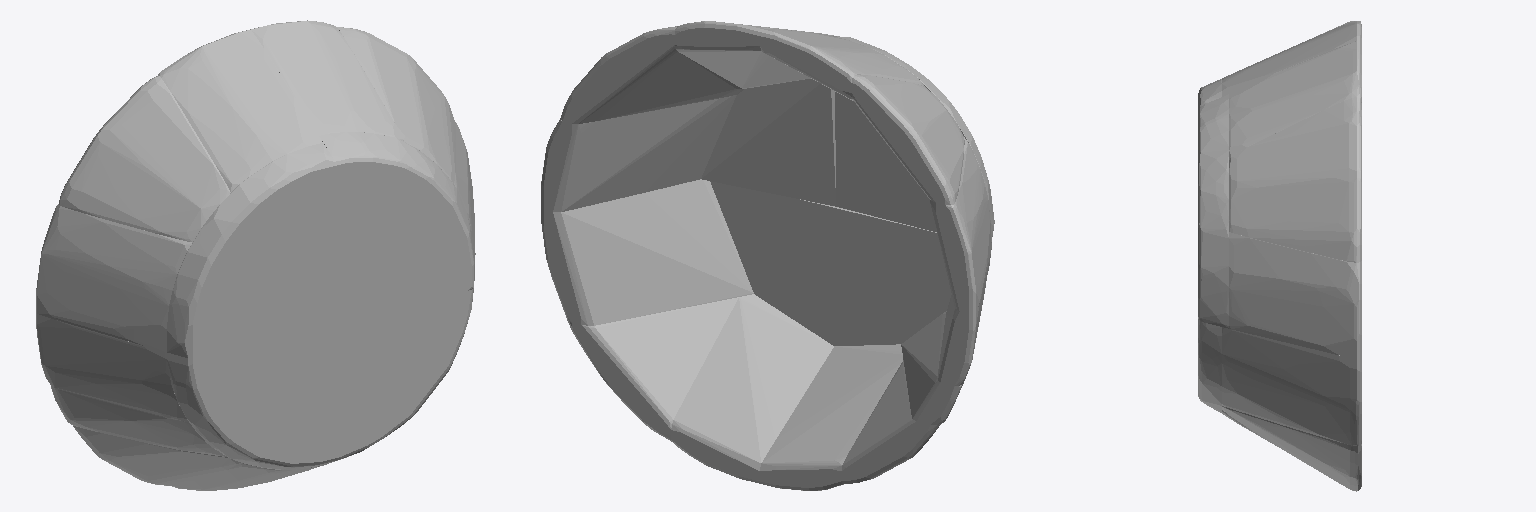
The robot description file, URDF, robot "root":
<robot name="root">
  <link name="link_coacd_convex_piece_0">
    <inertial>
      <origin xyz="0 0 0" rpy="0 0 0"/>
      <inertia ixx="4.38E-03" ixy="3.31E-04" ixz="-2.04E-04" iyy="4.88E-03" iyz="2.26E-03" izz="5.08E-03"/>
    </inertial>
    <visual>
      <origin xyz="0 0 0" rpy="0 0 0"/>
      <geometry>
        <mesh filename="coacd_convex_piece_0.obj" scale="1.0000E+00 1.0000E+00 1.0000E+00"/>
      </geometry>
      <material name="">
        <color rgba="7.50E-01 7.50E-01 7.50E-01 1"/>
      </material>
    </visual>
    <collision>
      <origin xyz="0 0 0" rpy="0 0 0"/>
      <geometry>
        <mesh filename="coacd_convex_piece_0.obj" scale="1.0000E+00 1.0000E+00 1.0000E+00"/>
      </geometry>
    </collision>
  </link>
  <link name="link_coacd_convex_piece_1">
    <inertial>
      <origin xyz="0 0 0" rpy="0 0 0"/>
      <inertia ixx="4.42E-03" ixy="-4.03E-03" ixz="8.38E-04" iyy="4.64E-03" iyz="9.04E-04" izz="8.30E-03"/>
    </inertial>
    <visual>
      <origin xyz="0 0 0" rpy="0 0 0"/>
      <geometry>
        <mesh filename="coacd_convex_piece_1.obj" scale="1.0000E+00 1.0000E+00 1.0000E+00"/>
      </geometry>
      <material name="">
        <color rgba="7.50E-01 7.50E-01 7.50E-01 1"/>
      </material>
    </visual>
    <collision>
      <origin xyz="0 0 0" rpy="0 0 0"/>
      <geometry>
        <mesh filename="coacd_convex_piece_1.obj" scale="1.0000E+00 1.0000E+00 1.0000E+00"/>
      </geometry>
    </collision>
  </link>
  <joint name="link_coacd_convex_piece_1_joint" type="fixed">
    <origin xyz="0 0 0" rpy="0 0 0"/>
    <parent link="link_coacd_convex_piece_0"/>
    <child link="link_coacd_convex_piece_1"/>
  </joint>
  <link name="link_coacd_convex_piece_2">
    <inertial>
      <origin xyz="0 0 0" rpy="0 0 0"/>
      <inertia ixx="3.61E-03" ixy="1.48E-03" ixz="1.51E-03" iyy="3.53E-03" iyz="-1.46E-03" izz="4.26E-03"/>
    </inertial>
    <visual>
      <origin xyz="0 0 0" rpy="0 0 0"/>
      <geometry>
        <mesh filename="coacd_convex_piece_2.obj" scale="1.0000E+00 1.0000E+00 1.0000E+00"/>
      </geometry>
      <material name="">
        <color rgba="7.50E-01 7.50E-01 7.50E-01 1"/>
      </material>
    </visual>
    <collision>
      <origin xyz="0 0 0" rpy="0 0 0"/>
      <geometry>
        <mesh filename="coacd_convex_piece_2.obj" scale="1.0000E+00 1.0000E+00 1.0000E+00"/>
      </geometry>
    </collision>
  </link>
  <joint name="link_coacd_convex_piece_2_joint" type="fixed">
    <origin xyz="0 0 0" rpy="0 0 0"/>
    <parent link="link_coacd_convex_piece_1"/>
    <child link="link_coacd_convex_piece_2"/>
  </joint>
  <link name="link_coacd_convex_piece_3">
    <inertial>
      <origin xyz="0 0 0" rpy="0 0 0"/>
      <inertia ixx="2.99E-03" ixy="-1.25E-03" ixz="-1.41E-03" iyy="3.37E-03" iyz="-1.23E-03" izz="3.78E-03"/>
    </inertial>
    <visual>
      <origin xyz="0 0 0" rpy="0 0 0"/>
      <geometry>
        <mesh filename="coacd_convex_piece_3.obj" scale="1.0000E+00 1.0000E+00 1.0000E+00"/>
      </geometry>
      <material name="">
        <color rgba="7.50E-01 7.50E-01 7.50E-01 1"/>
      </material>
    </visual>
    <collision>
      <origin xyz="0 0 0" rpy="0 0 0"/>
      <geometry>
        <mesh filename="coacd_convex_piece_3.obj" scale="1.0000E+00 1.0000E+00 1.0000E+00"/>
      </geometry>
    </collision>
  </link>
  <joint name="link_coacd_convex_piece_3_joint" type="fixed">
    <origin xyz="0 0 0" rpy="0 0 0"/>
    <parent link="link_coacd_convex_piece_2"/>
    <child link="link_coacd_convex_piece_3"/>
  </joint>
  <link name="link_coacd_convex_piece_4">
    <inertial>
      <origin xyz="0 0 0" rpy="0 0 0"/>
      <inertia ixx="1.41E-03" ixy="-2.63E-03" ixz="-7.01E-04" iyy="8.35E-03" iyz="-5.13E-05" izz="8.94E-03"/>
    </inertial>
    <visual>
      <origin xyz="0 0 0" rpy="0 0 0"/>
      <geometry>
        <mesh filename="coacd_convex_piece_4.obj" scale="1.0000E+00 1.0000E+00 1.0000E+00"/>
      </geometry>
      <material name="">
        <color rgba="7.50E-01 7.50E-01 7.50E-01 1"/>
      </material>
    </visual>
    <collision>
      <origin xyz="0 0 0" rpy="0 0 0"/>
      <geometry>
        <mesh filename="coacd_convex_piece_4.obj" scale="1.0000E+00 1.0000E+00 1.0000E+00"/>
      </geometry>
    </collision>
  </link>
  <joint name="link_coacd_convex_piece_4_joint" type="fixed">
    <origin xyz="0 0 0" rpy="0 0 0"/>
    <parent link="link_coacd_convex_piece_3"/>
    <child link="link_coacd_convex_piece_4"/>
  </joint>
  <link name="link_coacd_convex_piece_5">
    <inertial>
      <origin xyz="0 0 0" rpy="0 0 0"/>
      <inertia ixx="8.32E-03" ixy="1.99E-03" ixz="-7.78E-05" iyy="9.82E-04" iyz="7.38E-04" izz="8.64E-03"/>
    </inertial>
    <visual>
      <origin xyz="0 0 0" rpy="0 0 0"/>
      <geometry>
        <mesh filename="coacd_convex_piece_5.obj" scale="1.0000E+00 1.0000E+00 1.0000E+00"/>
      </geometry>
      <material name="">
        <color rgba="7.50E-01 7.50E-01 7.50E-01 1"/>
      </material>
    </visual>
    <collision>
      <origin xyz="0 0 0" rpy="0 0 0"/>
      <geometry>
        <mesh filename="coacd_convex_piece_5.obj" scale="1.0000E+00 1.0000E+00 1.0000E+00"/>
      </geometry>
    </collision>
  </link>
  <joint name="link_coacd_convex_piece_5_joint" type="fixed">
    <origin xyz="0 0 0" rpy="0 0 0"/>
    <parent link="link_coacd_convex_piece_4"/>
    <child link="link_coacd_convex_piece_5"/>
  </joint>
  <link name="link_coacd_convex_piece_6">
    <inertial>
      <origin xyz="0 0 0" rpy="0 0 0"/>
      <inertia ixx="9.45E-03" ixy="-2.78E-03" ixz="1.10E-04" iyy="1.58E-03" iyz="6.50E-04" izz="1.02E-02"/>
    </inertial>
    <visual>
      <origin xyz="0 0 0" rpy="0 0 0"/>
      <geometry>
        <mesh filename="coacd_convex_piece_6.obj" scale="1.0000E+00 1.0000E+00 1.0000E+00"/>
      </geometry>
      <material name="">
        <color rgba="7.50E-01 7.50E-01 7.50E-01 1"/>
      </material>
    </visual>
    <collision>
      <origin xyz="0 0 0" rpy="0 0 0"/>
      <geometry>
        <mesh filename="coacd_convex_piece_6.obj" scale="1.0000E+00 1.0000E+00 1.0000E+00"/>
      </geometry>
    </collision>
  </link>
  <joint name="link_coacd_convex_piece_6_joint" type="fixed">
    <origin xyz="0 0 0" rpy="0 0 0"/>
    <parent link="link_coacd_convex_piece_5"/>
    <child link="link_coacd_convex_piece_6"/>
  </joint>
  <link name="link_coacd_convex_piece_7">
    <inertial>
      <origin xyz="0 0 0" rpy="0 0 0"/>
      <inertia ixx="3.49E-03" ixy="-2.80E-03" ixz="-7.34E-04" iyy="2.94E-03" iyz="-7.72E-04" izz="5.80E-03"/>
    </inertial>
    <visual>
      <origin xyz="0 0 0" rpy="0 0 0"/>
      <geometry>
        <mesh filename="coacd_convex_piece_7.obj" scale="1.0000E+00 1.0000E+00 1.0000E+00"/>
      </geometry>
      <material name="">
        <color rgba="7.50E-01 7.50E-01 7.50E-01 1"/>
      </material>
    </visual>
    <collision>
      <origin xyz="0 0 0" rpy="0 0 0"/>
      <geometry>
        <mesh filename="coacd_convex_piece_7.obj" scale="1.0000E+00 1.0000E+00 1.0000E+00"/>
      </geometry>
    </collision>
  </link>
  <joint name="link_coacd_convex_piece_7_joint" type="fixed">
    <origin xyz="0 0 0" rpy="0 0 0"/>
    <parent link="link_coacd_convex_piece_6"/>
    <child link="link_coacd_convex_piece_7"/>
  </joint>
  <link name="link_coacd_convex_piece_8">
    <inertial>
      <origin xyz="0 0 0" rpy="0 0 0"/>
      <inertia ixx="6.28E-03" ixy="-1.49E-03" ixz="-1.00E-04" iyy="8.26E-04" iyz="-5.74E-04" izz="6.52E-03"/>
    </inertial>
    <visual>
      <origin xyz="0 0 0" rpy="0 0 0"/>
      <geometry>
        <mesh filename="coacd_convex_piece_8.obj" scale="1.0000E+00 1.0000E+00 1.0000E+00"/>
      </geometry>
      <material name="">
        <color rgba="7.50E-01 7.50E-01 7.50E-01 1"/>
      </material>
    </visual>
    <collision>
      <origin xyz="0 0 0" rpy="0 0 0"/>
      <geometry>
        <mesh filename="coacd_convex_piece_8.obj" scale="1.0000E+00 1.0000E+00 1.0000E+00"/>
      </geometry>
    </collision>
  </link>
  <joint name="link_coacd_convex_piece_8_joint" type="fixed">
    <origin xyz="0 0 0" rpy="0 0 0"/>
    <parent link="link_coacd_convex_piece_7"/>
    <child link="link_coacd_convex_piece_8"/>
  </joint>
  <link name="link_coacd_convex_piece_9">
    <inertial>
      <origin xyz="0 0 0" rpy="0 0 0"/>
      <inertia ixx="5.48E-03" ixy="1.44E-03" ixz="1.39E-04" iyy="7.32E-04" iyz="-5.29E-04" izz="5.69E-03"/>
    </inertial>
    <visual>
      <origin xyz="0 0 0" rpy="0 0 0"/>
      <geometry>
        <mesh filename="coacd_convex_piece_9.obj" scale="1.0000E+00 1.0000E+00 1.0000E+00"/>
      </geometry>
      <material name="">
        <color rgba="7.50E-01 7.50E-01 7.50E-01 1"/>
      </material>
    </visual>
    <collision>
      <origin xyz="0 0 0" rpy="0 0 0"/>
      <geometry>
        <mesh filename="coacd_convex_piece_9.obj" scale="1.0000E+00 1.0000E+00 1.0000E+00"/>
      </geometry>
    </collision>
  </link>
  <joint name="link_coacd_convex_piece_9_joint" type="fixed">
    <origin xyz="0 0 0" rpy="0 0 0"/>
    <parent link="link_coacd_convex_piece_8"/>
    <child link="link_coacd_convex_piece_9"/>
  </joint>
  <link name="link_coacd_convex_piece_10">
    <inertial>
      <origin xyz="0 0 0" rpy="0 0 0"/>
      <inertia ixx="3.14E-03" ixy="2.40E-03" ixz="6.18E-04" iyy="2.27E-03" iyz="-6.83E-04" izz="4.89E-03"/>
    </inertial>
    <visual>
      <origin xyz="0 0 0" rpy="0 0 0"/>
      <geometry>
        <mesh filename="coacd_convex_piece_10.obj" scale="1.0000E+00 1.0000E+00 1.0000E+00"/>
      </geometry>
      <material name="">
        <color rgba="7.50E-01 7.50E-01 7.50E-01 1"/>
      </material>
    </visual>
    <collision>
      <origin xyz="0 0 0" rpy="0 0 0"/>
      <geometry>
        <mesh filename="coacd_convex_piece_10.obj" scale="1.0000E+00 1.0000E+00 1.0000E+00"/>
      </geometry>
    </collision>
  </link>
  <joint name="link_coacd_convex_piece_10_joint" type="fixed">
    <origin xyz="0 0 0" rpy="0 0 0"/>
    <parent link="link_coacd_convex_piece_9"/>
    <child link="link_coacd_convex_piece_10"/>
  </joint>
  <link name="link_coacd_convex_piece_11">
    <inertial>
      <origin xyz="0 0 0" rpy="0 0 0"/>
      <inertia ixx="1.39E-03" ixy="1.93E-03" ixz="3.30E-04" iyy="3.09E-03" iyz="-9.55E-05" izz="4.13E-03"/>
    </inertial>
    <visual>
      <origin xyz="0 0 0" rpy="0 0 0"/>
      <geometry>
        <mesh filename="coacd_convex_piece_11.obj" scale="1.0000E+00 1.0000E+00 1.0000E+00"/>
      </geometry>
      <material name="">
        <color rgba="7.50E-01 7.50E-01 7.50E-01 1"/>
      </material>
    </visual>
    <collision>
      <origin xyz="0 0 0" rpy="0 0 0"/>
      <geometry>
        <mesh filename="coacd_convex_piece_11.obj" scale="1.0000E+00 1.0000E+00 1.0000E+00"/>
      </geometry>
    </collision>
  </link>
  <joint name="link_coacd_convex_piece_11_joint" type="fixed">
    <origin xyz="0 0 0" rpy="0 0 0"/>
    <parent link="link_coacd_convex_piece_10"/>
    <child link="link_coacd_convex_piece_11"/>
  </joint>
  <link name="link_coacd_convex_piece_12">
    <inertial>
      <origin xyz="0 0 0" rpy="0 0 0"/>
      <inertia ixx="4.95E-04" ixy="1.34E-03" ixz="4.81E-04" iyy="5.92E-03" iyz="-1.45E-05" izz="5.91E-03"/>
    </inertial>
    <visual>
      <origin xyz="0 0 0" rpy="0 0 0"/>
      <geometry>
        <mesh filename="coacd_convex_piece_12.obj" scale="1.0000E+00 1.0000E+00 1.0000E+00"/>
      </geometry>
      <material name="">
        <color rgba="7.50E-01 7.50E-01 7.50E-01 1"/>
      </material>
    </visual>
    <collision>
      <origin xyz="0 0 0" rpy="0 0 0"/>
      <geometry>
        <mesh filename="coacd_convex_piece_12.obj" scale="1.0000E+00 1.0000E+00 1.0000E+00"/>
      </geometry>
    </collision>
  </link>
  <joint name="link_coacd_convex_piece_12_joint" type="fixed">
    <origin xyz="0 0 0" rpy="0 0 0"/>
    <parent link="link_coacd_convex_piece_11"/>
    <child link="link_coacd_convex_piece_12"/>
  </joint>
  <link name="link_coacd_convex_piece_13">
    <inertial>
      <origin xyz="0 0 0" rpy="0 0 0"/>
      <inertia ixx="8.00E-04" ixy="1.95E-03" ixz="-6.68E-04" iyy="7.75E-03" iyz="2.21E-04" izz="7.91E-03"/>
    </inertial>
    <visual>
      <origin xyz="0 0 0" rpy="0 0 0"/>
      <geometry>
        <mesh filename="coacd_convex_piece_13.obj" scale="1.0000E+00 1.0000E+00 1.0000E+00"/>
      </geometry>
      <material name="">
        <color rgba="7.50E-01 7.50E-01 7.50E-01 1"/>
      </material>
    </visual>
    <collision>
      <origin xyz="0 0 0" rpy="0 0 0"/>
      <geometry>
        <mesh filename="coacd_convex_piece_13.obj" scale="1.0000E+00 1.0000E+00 1.0000E+00"/>
      </geometry>
    </collision>
  </link>
  <joint name="link_coacd_convex_piece_13_joint" type="fixed">
    <origin xyz="0 0 0" rpy="0 0 0"/>
    <parent link="link_coacd_convex_piece_12"/>
    <child link="link_coacd_convex_piece_13"/>
  </joint>
  <link name="link_coacd_convex_piece_14">
    <inertial>
      <origin xyz="0 0 0" rpy="0 0 0"/>
      <inertia ixx="5.39E-03" ixy="4.75E-03" ixz="-9.99E-04" iyy="5.30E-03" iyz="1.16E-03" izz="9.75E-03"/>
    </inertial>
    <visual>
      <origin xyz="0 0 0" rpy="0 0 0"/>
      <geometry>
        <mesh filename="coacd_convex_piece_14.obj" scale="1.0000E+00 1.0000E+00 1.0000E+00"/>
      </geometry>
      <material name="">
        <color rgba="7.50E-01 7.50E-01 7.50E-01 1"/>
      </material>
    </visual>
    <collision>
      <origin xyz="0 0 0" rpy="0 0 0"/>
      <geometry>
        <mesh filename="coacd_convex_piece_14.obj" scale="1.0000E+00 1.0000E+00 1.0000E+00"/>
      </geometry>
    </collision>
  </link>
  <joint name="link_coacd_convex_piece_14_joint" type="fixed">
    <origin xyz="0 0 0" rpy="0 0 0"/>
    <parent link="link_coacd_convex_piece_13"/>
    <child link="link_coacd_convex_piece_14"/>
  </joint>
  <link name="link_coacd_convex_piece_15">
    <inertial>
      <origin xyz="0 0 0" rpy="0 0 0"/>
      <inertia ixx="1.25E-03" ixy="-2.64E-03" ixz="6.62E-04" iyy="9.95E-03" iyz="2.27E-04" izz="1.03E-02"/>
    </inertial>
    <visual>
      <origin xyz="0 0 0" rpy="0 0 0"/>
      <geometry>
        <mesh filename="coacd_convex_piece_15.obj" scale="1.0000E+00 1.0000E+00 1.0000E+00"/>
      </geometry>
      <material name="">
        <color rgba="7.50E-01 7.50E-01 7.50E-01 1"/>
      </material>
    </visual>
    <collision>
      <origin xyz="0 0 0" rpy="0 0 0"/>
      <geometry>
        <mesh filename="coacd_convex_piece_15.obj" scale="1.0000E+00 1.0000E+00 1.0000E+00"/>
      </geometry>
    </collision>
  </link>
  <joint name="link_coacd_convex_piece_15_joint" type="fixed">
    <origin xyz="0 0 0" rpy="0 0 0"/>
    <parent link="link_coacd_convex_piece_14"/>
    <child link="link_coacd_convex_piece_15"/>
  </joint>
</robot>

--- Render facts (derived) ---
The picture shows the robot from 3 angles, left to right: view 1: azimuth 30°, elevation 25°; view 2: azimuth 150°, elevation 25°; view 3: azimuth 270°, elevation 25°; orthographic projection.
Robot: root — 16 links, 15 joints (15 fixed); root link link_coacd_convex_piece_0; default pose: all joints at 0.
Links seen in each view (by area): view 1: link_coacd_convex_piece_0, link_coacd_convex_piece_3, link_coacd_convex_piece_2, link_coacd_convex_piece_1, link_coacd_convex_piece_15, link_coacd_convex_piece_6, link_coacd_convex_piece_5, link_coacd_convex_piece_12, link_coacd_convex_piece_14, link_coacd_convex_piece_11, link_coacd_convex_piece_10, link_coacd_convex_piece_9 (+1 smaller); view 2: link_coacd_convex_piece_0, link_coacd_convex_piece_4, link_coacd_convex_piece_8, link_coacd_convex_piece_13, link_coacd_convex_piece_2, link_coacd_convex_piece_7, link_coacd_convex_piece_9, link_coacd_convex_piece_14, link_coacd_convex_piece_3, link_coacd_convex_piece_1, link_coacd_convex_piece_15, link_coacd_convex_piece_6 (+4 smaller); view 3: link_coacd_convex_piece_14, link_coacd_convex_piece_13, link_coacd_convex_piece_4, link_coacd_convex_piece_5, link_coacd_convex_piece_2, link_coacd_convex_piece_7, link_coacd_convex_piece_6, link_coacd_convex_piece_0.
Link boxes in pixels (<box>): link_coacd_convex_piece_0: <box>167,288,473,469</box>; link_coacd_convex_piece_3: <box>167,143,335,357</box>; link_coacd_convex_piece_2: <box>319,132,474,322</box>; link_coacd_convex_piece_1: <box>59,76,230,242</box>; link_coacd_convex_piece_15: <box>36,204,191,351</box>; link_coacd_convex_piece_6: <box>158,30,322,191</box>; link_coacd_convex_piece_5: <box>250,20,403,140</box>; link_coacd_convex_piece_12: <box>36,312,188,421</box>; link_coacd_convex_piece_14: <box>337,27,455,183</box>; link_coacd_convex_piece_11: <box>51,386,226,456</box>; link_coacd_convex_piece_10: <box>73,426,240,485</box>; link_coacd_convex_piece_9: <box>172,463,319,490</box>; link_coacd_convex_piece_0: <box>710,181,991,345</box>; link_coacd_convex_piece_4: <box>541,179,753,325</box>; link_coacd_convex_piece_8: <box>671,294,833,483</box>; link_coacd_convex_piece_13: <box>541,95,736,211</box>; link_coacd_convex_piece_2: <box>701,33,839,206</box>; link_coacd_convex_piece_7: <box>567,297,738,441</box>; link_coacd_convex_piece_9: <box>760,344,902,490</box>; link_coacd_convex_piece_14: <box>560,26,743,123</box>; link_coacd_convex_piece_3: <box>835,37,994,242</box>; link_coacd_convex_piece_1: <box>852,74,964,204</box>; link_coacd_convex_piece_15: <box>930,137,990,313</box>; link_coacd_convex_piece_6: <box>760,29,924,100</box>; link_coacd_convex_piece_14: <box>1229,97,1361,262</box>; link_coacd_convex_piece_13: <box>1229,232,1361,358</box>; link_coacd_convex_piece_4: <box>1222,327,1361,445</box>; link_coacd_convex_piece_5: <box>1229,41,1361,159</box>; link_coacd_convex_piece_2: <box>1198,94,1228,328</box>; link_coacd_convex_piece_7: <box>1222,406,1361,491</box>; link_coacd_convex_piece_6: <box>1222,21,1361,96</box>; link_coacd_convex_piece_0: <box>1198,319,1221,412</box>.
Size in the robot's own frame: 1.86 by 0.6472 by 1.86 metres.
Meshes: 16 distinct files referenced, 16 mesh visuals loaded (16 OBJ).
